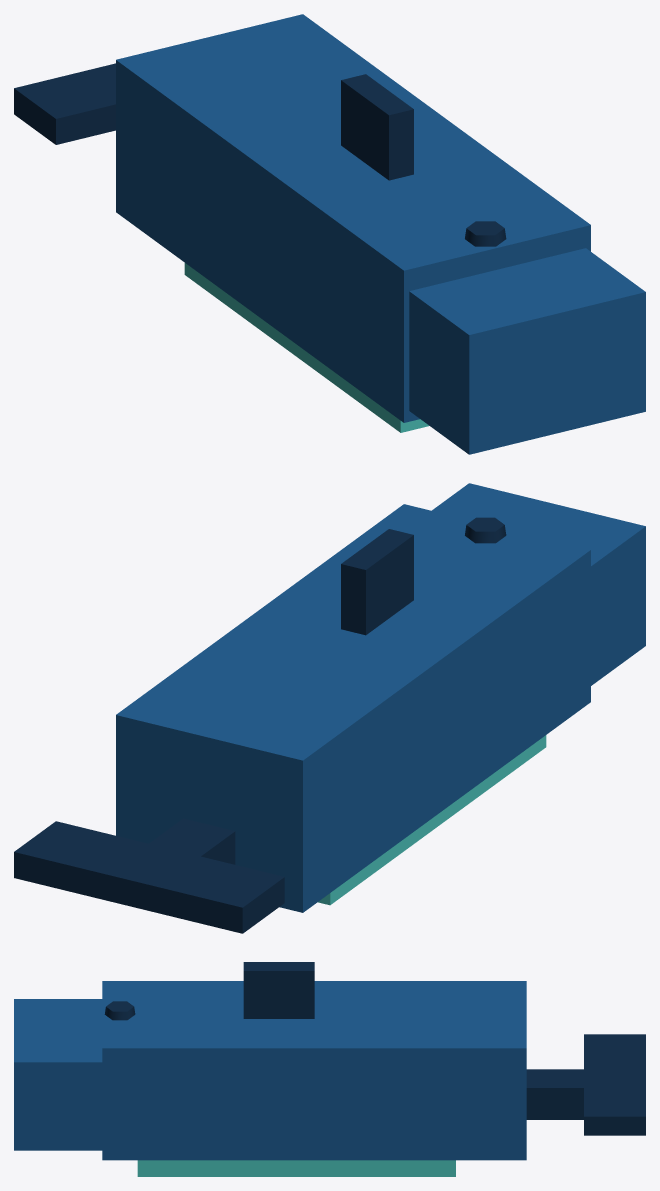
File: whale.glb
3 renders of one model, top to bottom at view 1: azimuth 30°, elevation 25°; view 2: azimuth 150°, elevation 25°; view 3: azimuth 270°, elevation 25°, orthographic. The views are drawn at different scales.
Visible parts, largest first — view 1: whale; view 2: whale; view 3: whale.
Boxes of the visible parts, bbox=[...] form: whale: bbox=[14, 14, 645, 454]; whale: bbox=[14, 483, 645, 933]; whale: bbox=[14, 962, 645, 1176].
Size of the model in its own units: 1.1 by 1.15 by 3.57.
